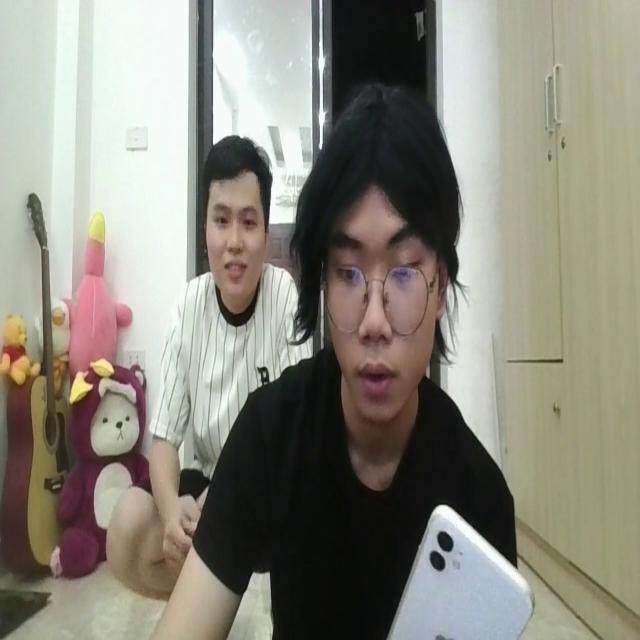extra_person: (151, 138, 307, 418)
phone: (383, 497, 534, 640)
student: (158, 86, 518, 640)
